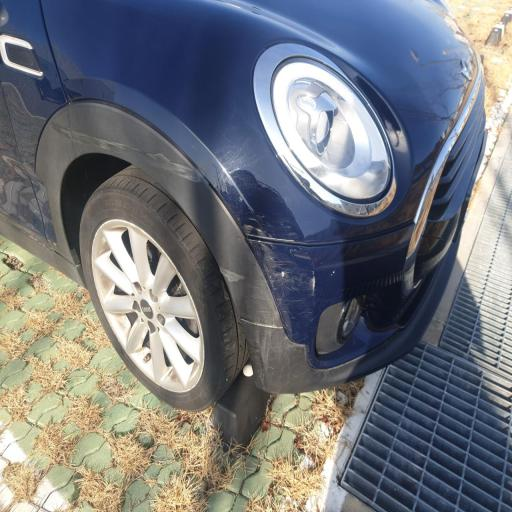scratch: (201, 165, 347, 373)
